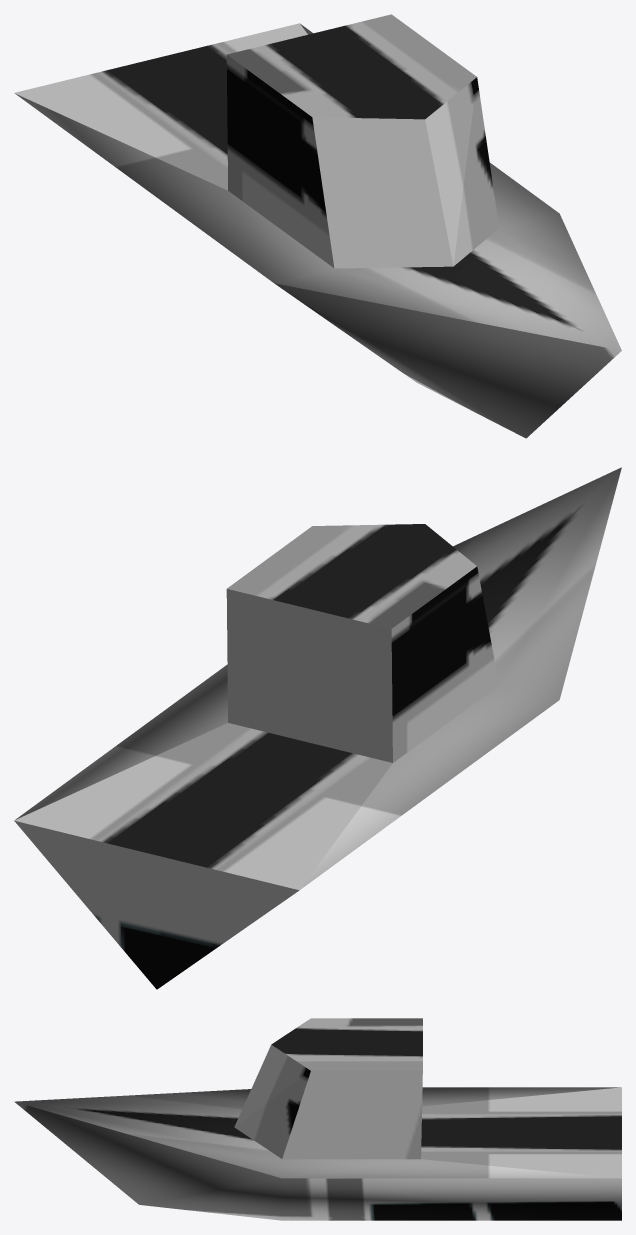
Rendered from Gun_Boat_Low.DAE.
3 renders of one model, top to bottom at view 1: azimuth 30°, elevation 25°; view 2: azimuth 150°, elevation 25°; view 3: azimuth 270°, elevation 25°, orthographic. The views are drawn at different scales.
Parts seen in each view (by area): view 1: GunBoatLow; view 2: GunBoatLow; view 3: GunBoatLow.
Boxes of the visible parts, x1,y1,x2,y2 form: GunBoatLow: [14, 14, 621, 438]; GunBoatLow: [14, 467, 621, 989]; GunBoatLow: [14, 1018, 621, 1220].
Bounding box in the file's own units: 863 × 778 × 2435.
1 material, 1 textured.
